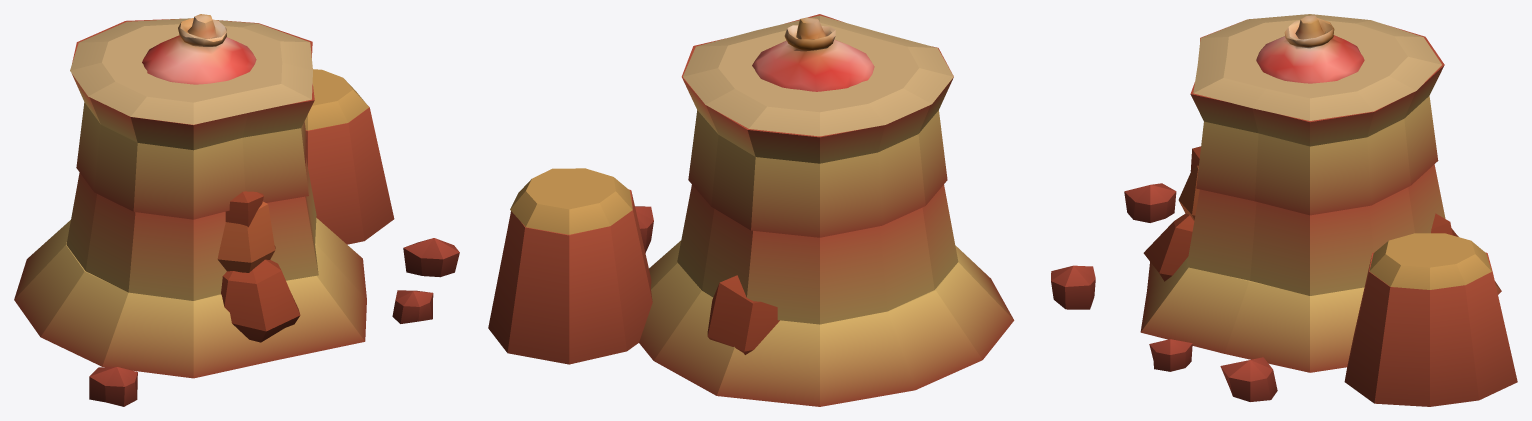
Rendered from scenery-desert.glb.
3 renders of one model, left to right at view 1: azimuth 30°, elevation 25°; view 2: azimuth 150°, elevation 25°; view 3: azimuth 270°, elevation 25°, orthographic. The views are drawn at different scales.
Visible parts, largest first — view 1: prop-mesa_rock, prop-rock_arch, prop-water_tower; view 2: prop-mesa_rock, prop-water_tower, prop-rock_arch; view 3: prop-mesa_rock, prop-water_tower, prop-rock_arch.
Boxes of the visible parts, x1,y1,x2,y2 form: prop-mesa_rock: [14, 18, 459, 406]; prop-rock_arch: [217, 191, 300, 342]; prop-water_tower: [142, 14, 256, 84]; prop-mesa_rock: [488, 14, 1095, 406]; prop-water_tower: [752, 17, 874, 91]; prop-rock_arch: [707, 275, 779, 354]; prop-mesa_rock: [1124, 14, 1517, 406]; prop-water_tower: [1256, 15, 1364, 83]; prop-rock_arch: [1143, 146, 1458, 281].
Size of the model in its own units: 23.94 by 15.45 by 19.7.
